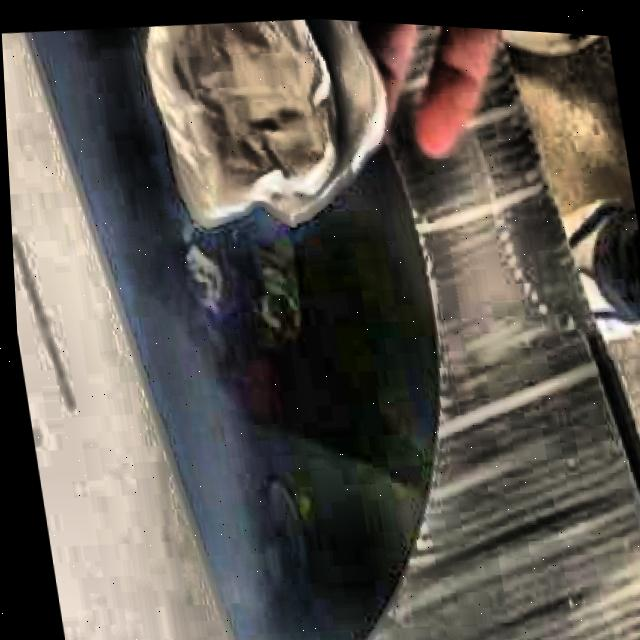metal: (147, 14, 338, 217)
